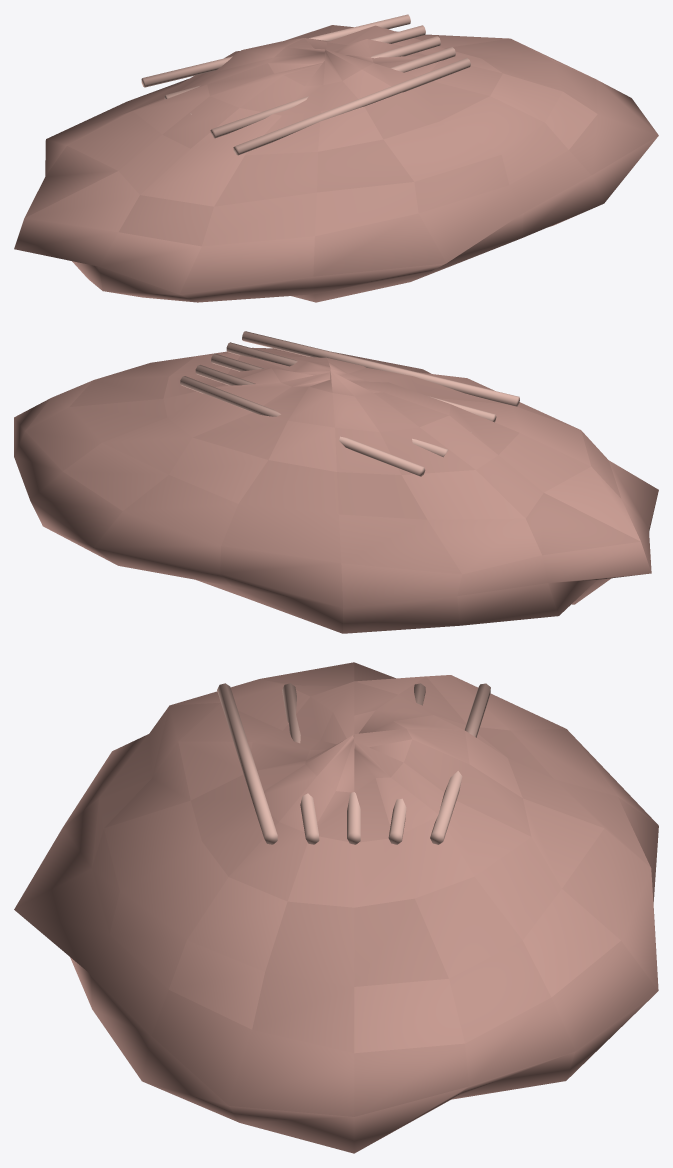
Rendered from Chicken.glb.
3 renders of one model, top to bottom at view 1: azimuth 30°, elevation 25°; view 2: azimuth 150°, elevation 25°; view 3: azimuth 270°, elevation 25°, orthographic. The views are drawn at different scales.
Visible parts, largest first — view 1: Chicken; view 2: Chicken; view 3: Chicken.
Boxes of the visible parts, x1,y1,x2,y2 form: Chicken: (14,14,658,302); Chicken: (14,331,658,633); Chicken: (14,662,658,1153).
Size of what is drawn, in the model's own units: 0.169 by 0.0502 by 0.109.
